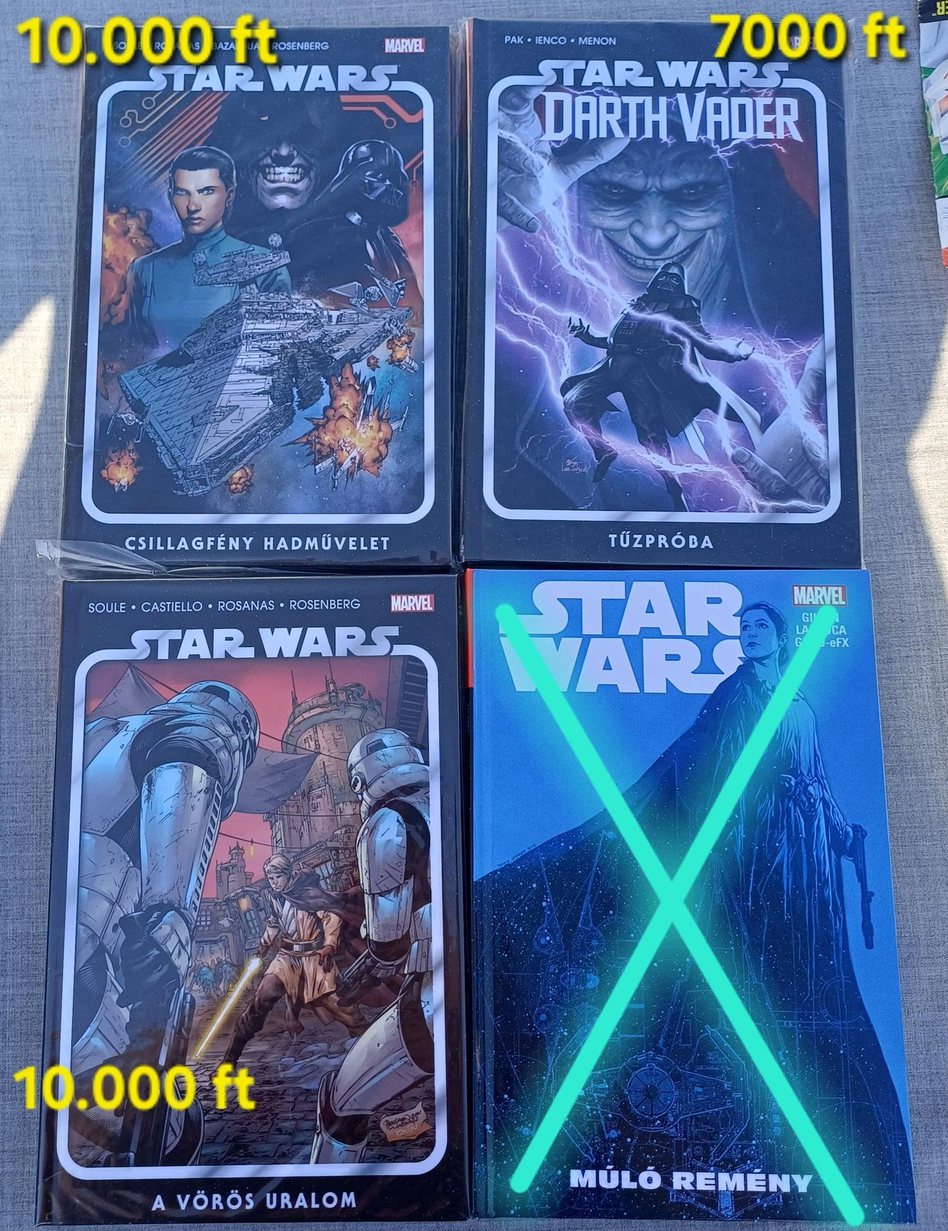comic: (472, 570, 914, 1224), (38, 575, 467, 1223), (462, 21, 864, 568), (62, 24, 455, 570)
